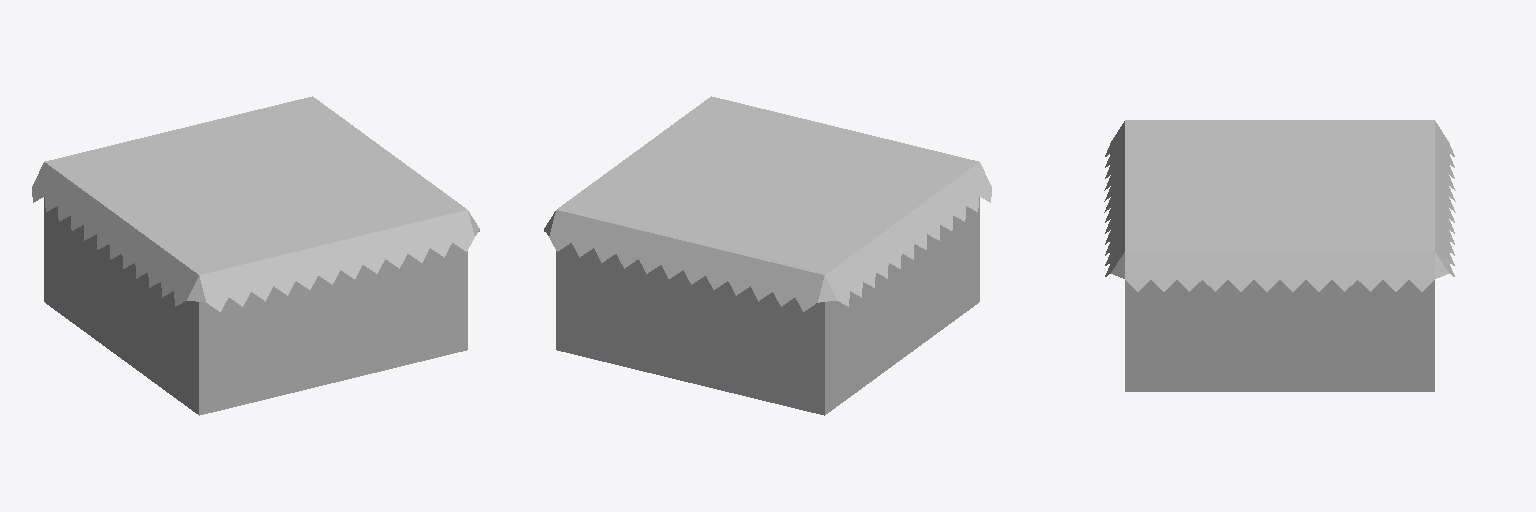
The model's file is blockLarge.obj.
3 views of the same model, side by side, from view 1: azimuth 30°, elevation 25°; view 2: azimuth 150°, elevation 25°; view 3: azimuth 270°, elevation 25° (orthographic).
Visible parts, largest first — view 1: blockLarge; view 2: blockLarge; view 3: blockLarge.
Part boxes in pixels (bbox=[...]): blockLarge: bbox=[32, 96, 479, 415]; blockLarge: bbox=[544, 96, 991, 415]; blockLarge: bbox=[1104, 120, 1455, 391].
Size of the model in its own units: 2.27 by 1 by 2.27.